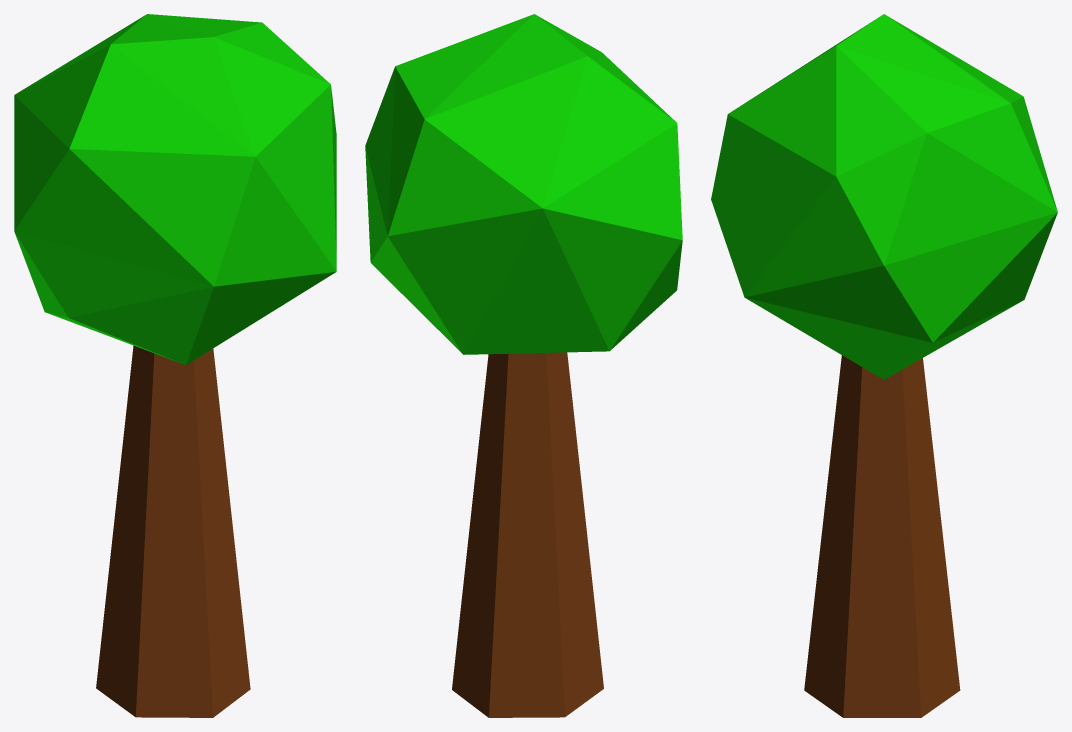
File: tree.fbx
3 renders of one model, left to right at view 1: azimuth 30°, elevation 25°; view 2: azimuth 150°, elevation 25°; view 3: azimuth 270°, elevation 25°, orthographic.
Parts seen in each view (by area): view 1: Icosphere, Cylinder; view 2: Icosphere, Cylinder; view 3: Icosphere, Cylinder.
Part boxes in pixels (x1,y1,x2,y2): Icosphere: (14,14,336,364); Cylinder: (96,345,250,717); Icosphere: (365,14,682,354); Cylinder: (452,352,603,717); Icosphere: (711,14,1057,379); Cylinder: (804,355,960,717).
Size of the model in its own units: 209 by 411 by 198.
